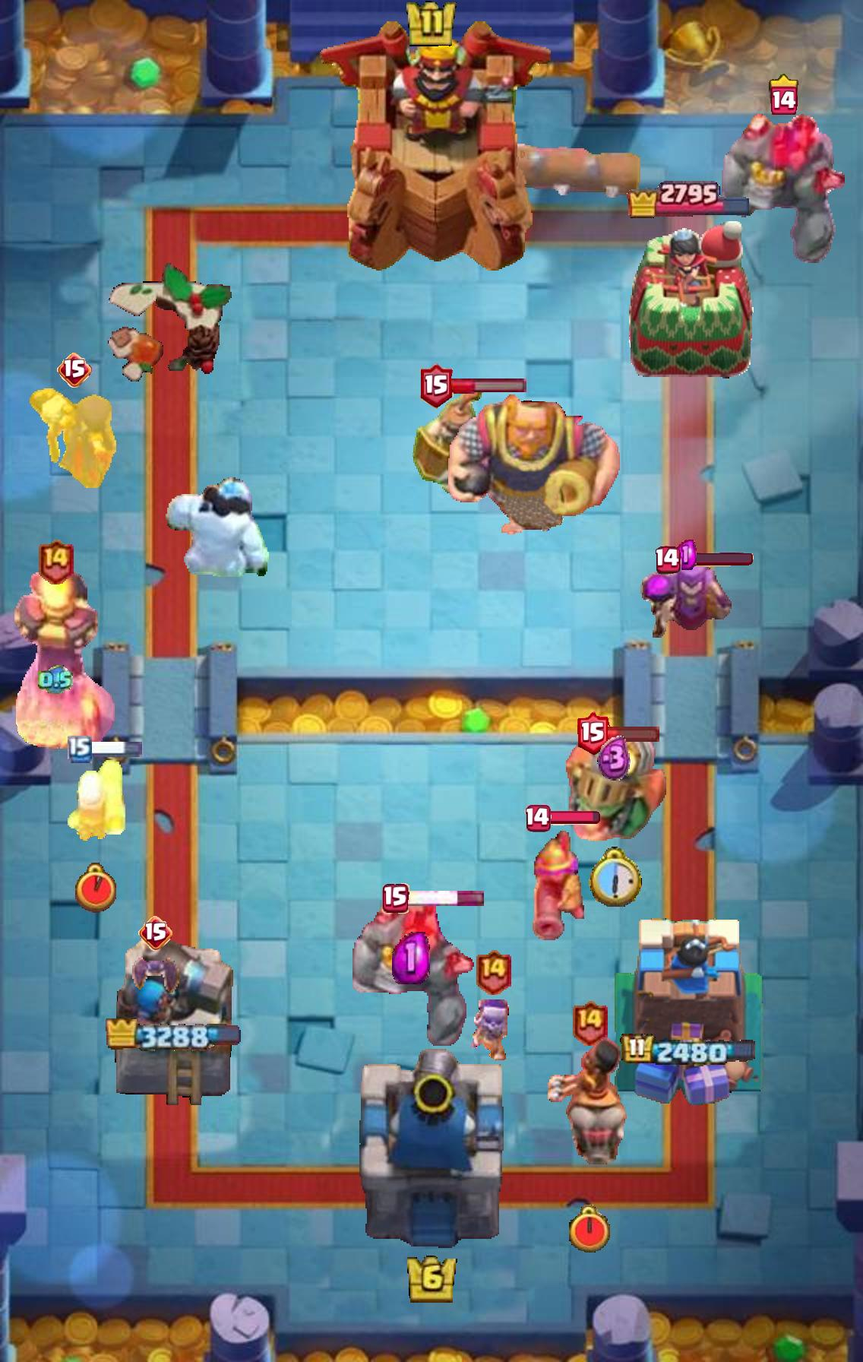elixir: (392, 931, 430, 984), (597, 735, 631, 782), (38, 665, 73, 695), (674, 540, 696, 570)
ice-golem: (163, 477, 270, 577)
the-log: (486, 137, 641, 198)
